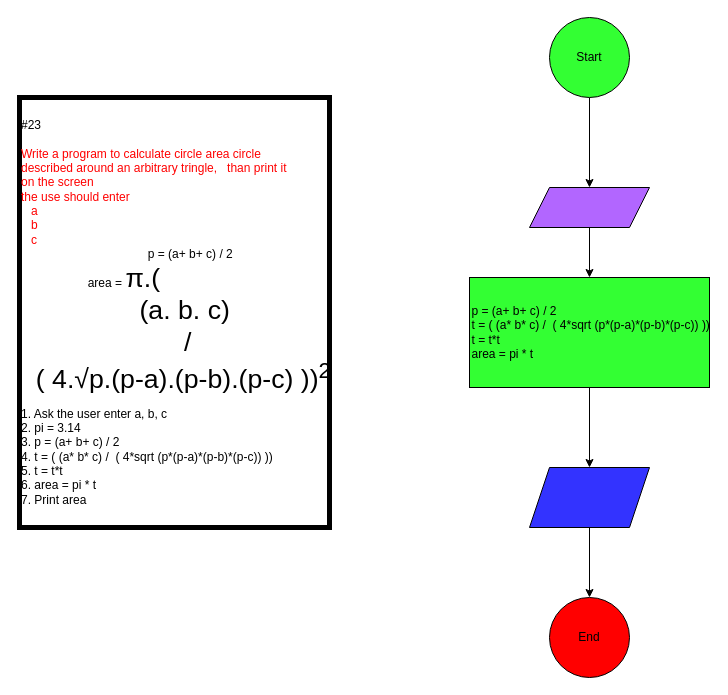
Some shapes in this 728 by 695 pixel diagram are drawn without their labels. The centre of each missing label's shape, as x and y in pixels:
"Print area" belongs at [589,497].
"Read a, b, c" belongs at [589,207].
